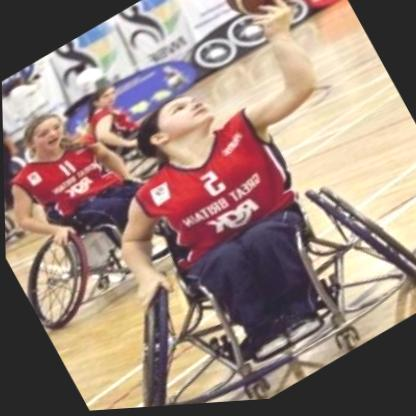basketball: (206, 0, 328, 37)
